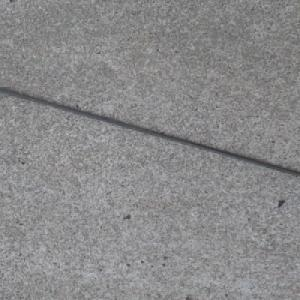LuggagePart: (0, 85, 300, 176)
